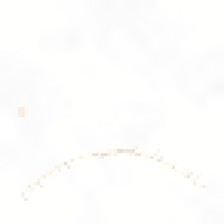corneal_ulcer: (82, 85, 126, 120)
